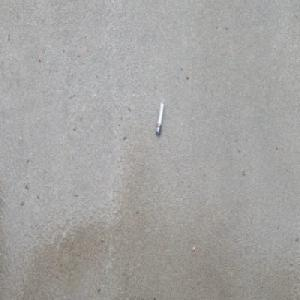Battery: (155, 101, 164, 136)
